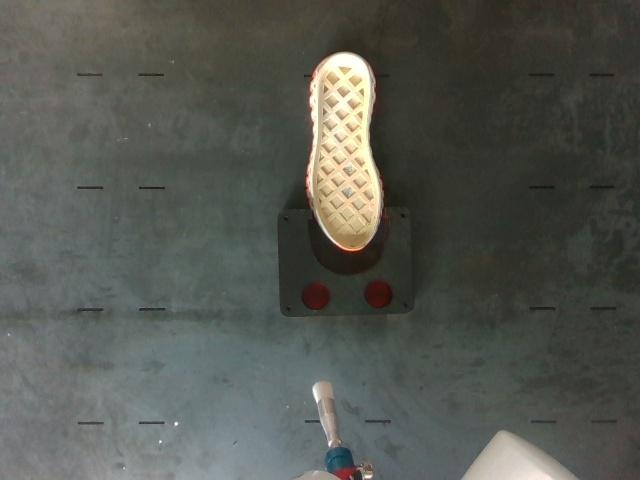shoes: (312, 54, 379, 250)
